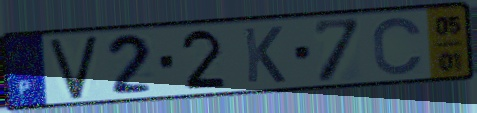2: (104, 31, 160, 99), (179, 28, 229, 92)
7: (313, 15, 362, 85)
C: (370, 14, 426, 77)
K: (241, 24, 288, 85)
V: (47, 33, 101, 102)
